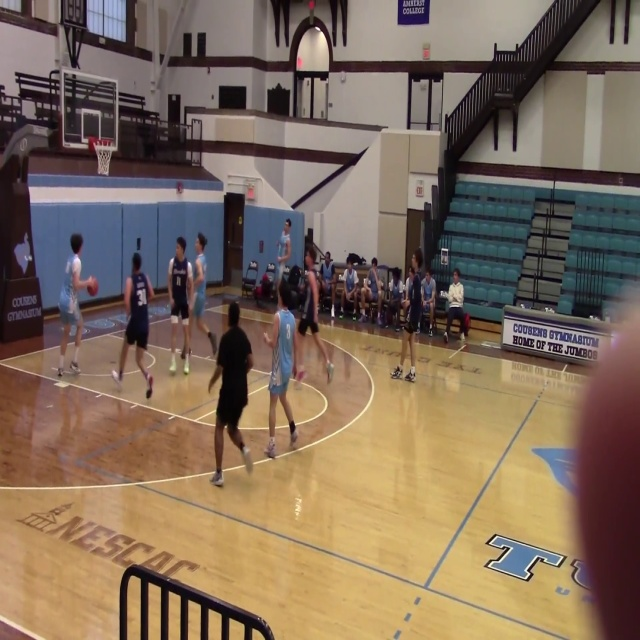Basketball: (86, 276, 98, 296), (296, 370, 306, 381)
